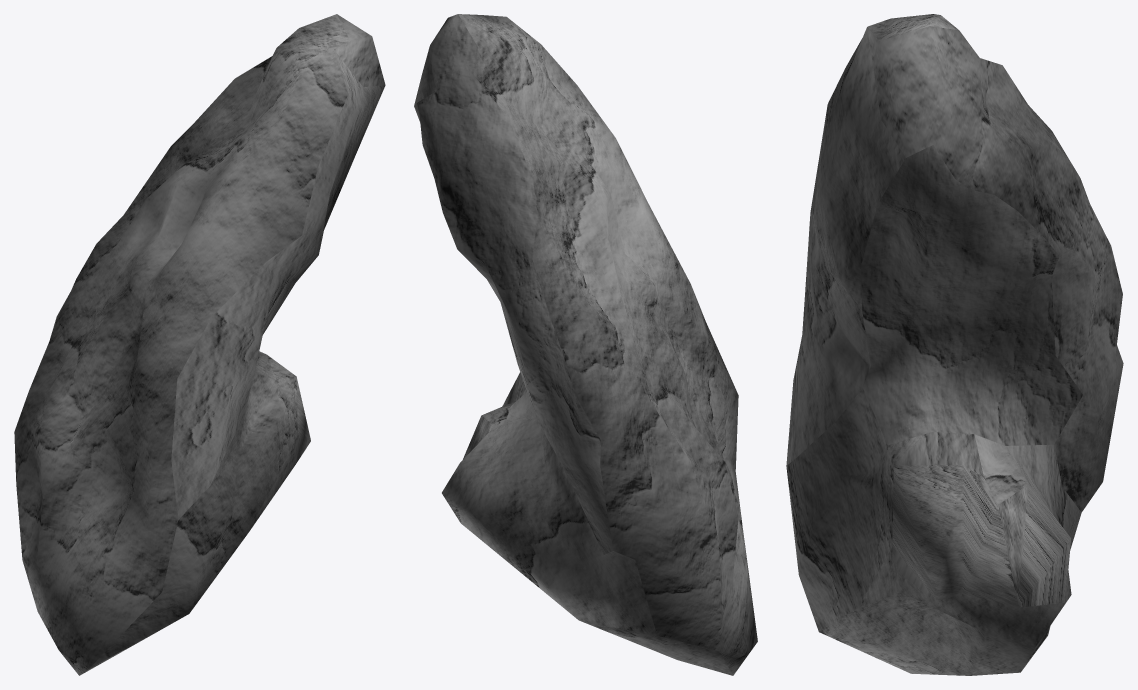
The model's file is rock02.obj.
3 views of the same model, side by side, from view 1: azimuth 30°, elevation 25°; view 2: azimuth 150°, elevation 25°; view 3: azimuth 270°, elevation 25° (orthographic). The views are drawn at different scales.
Visible parts, largest first — view 1: rock_03; view 2: rock_03; view 3: rock_03.
Boxes of the visible parts, x1=… form: rock_03: x1=14, y1=14, x2=385, y2=675; rock_03: x1=414, y1=14, x2=757, y2=675; rock_03: x1=786, y1=14, x2=1123, y2=675.
Bounding box in the file's own units: 3.94 × 6.79 × 2.51.
1 material, 1 textured.
